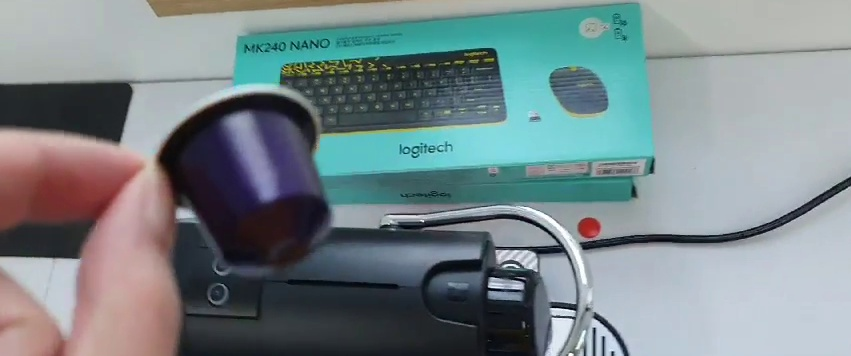capsule_2: (150, 82, 336, 271)
